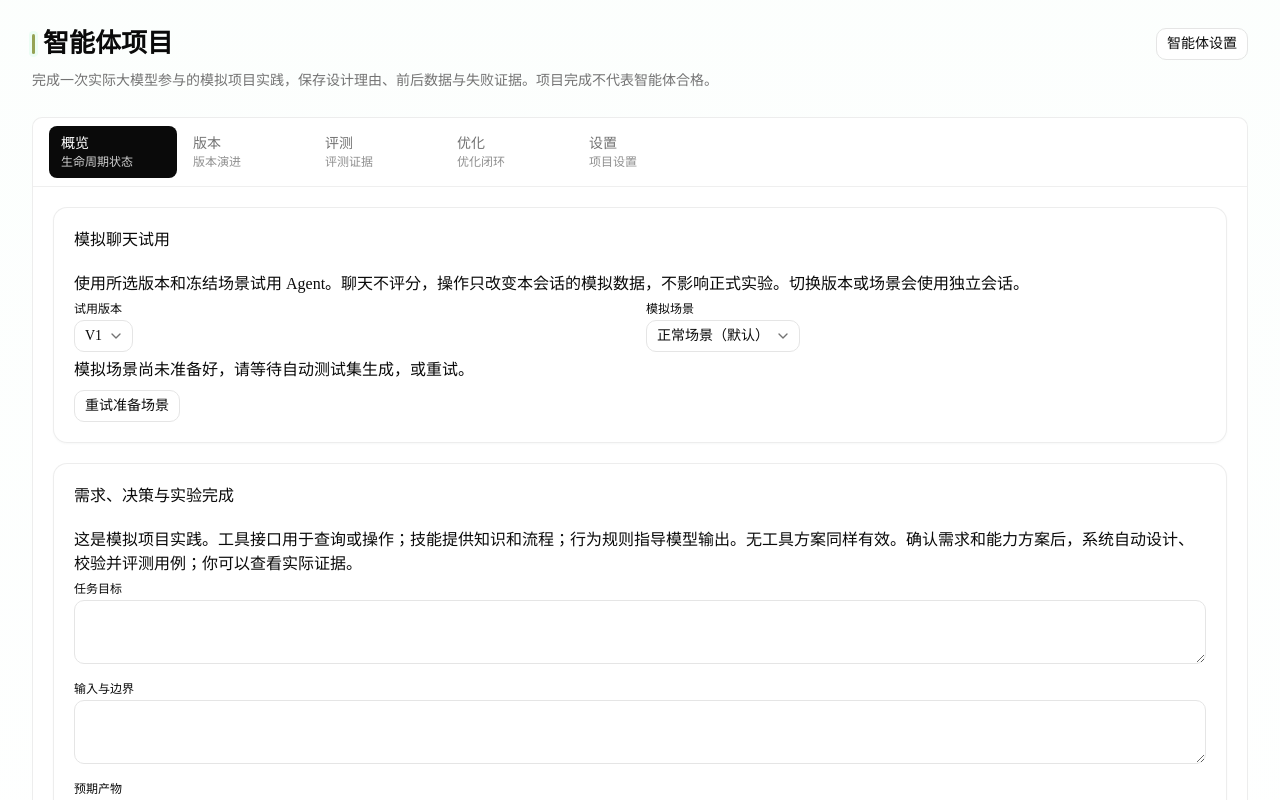
Test: shows retry controls for a rejected version creation
Step 1. Click the button "版本 版本演进" → (245, 152), box [181,126,309,178]
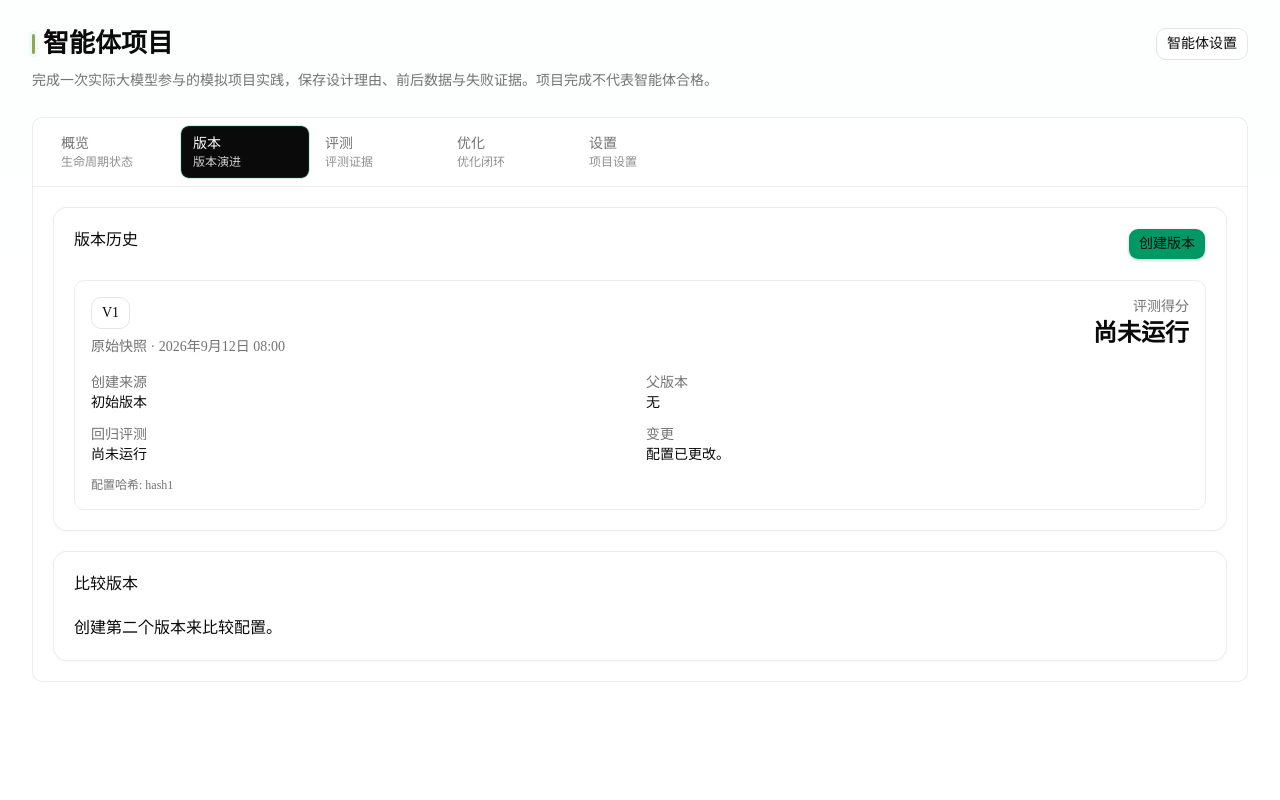
Step 2. Click the button "创建版本" → (1167, 244), box [1128,228,1206,260]
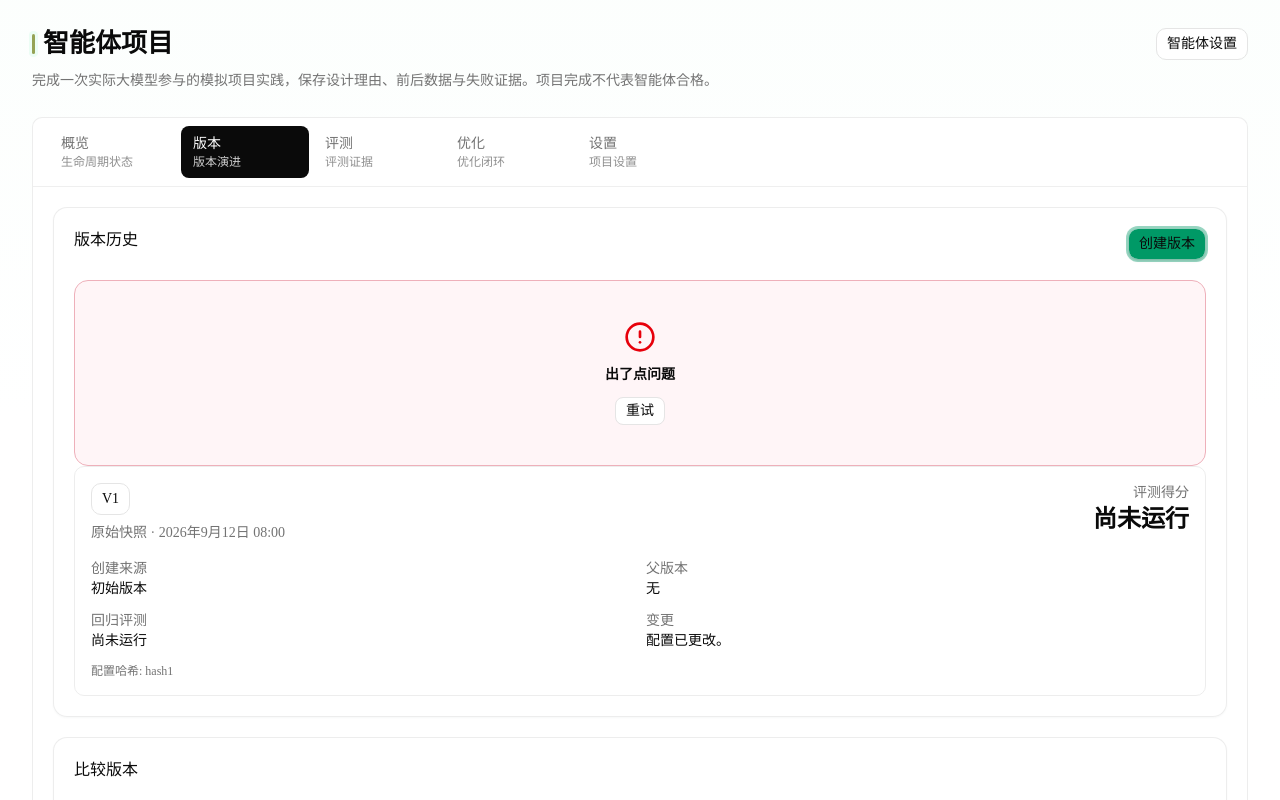
Expected: the message "出了点问题 重试" is shown, [74,280,1206,466]
Expected: the button "重试" is shown, [615,396,665,424]
